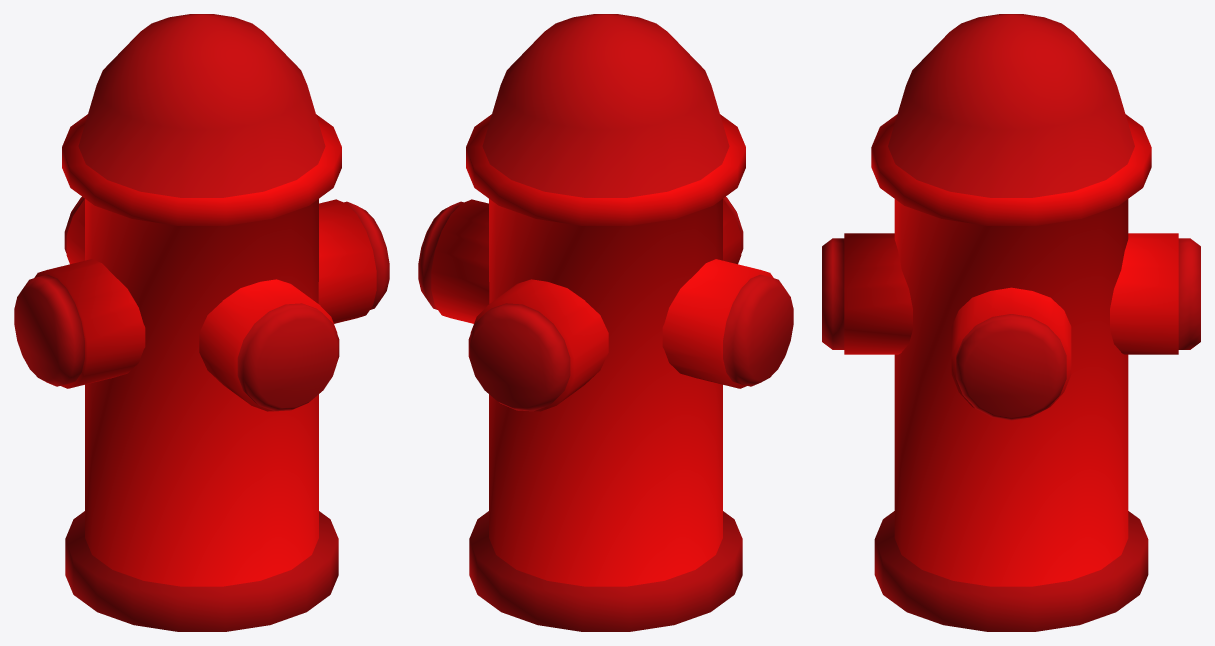
File: fire hydrant.glb
3 views of the same model, side by side, from view 1: azimuth 30°, elevation 25°; view 2: azimuth 150°, elevation 25°; view 3: azimuth 270°, elevation 25° (orthographic).
Parts seen in each view (by area): view 1: hydrant; view 2: hydrant; view 3: hydrant.
Part boxes in pixels (bbox=[...]): hydrant: bbox=[14, 14, 389, 631]; hydrant: bbox=[418, 14, 793, 631]; hydrant: bbox=[822, 14, 1200, 631].
Size of the model in its own units: 0.3351 by 0.5466 by 0.3351.
1 material, 1 textured.
